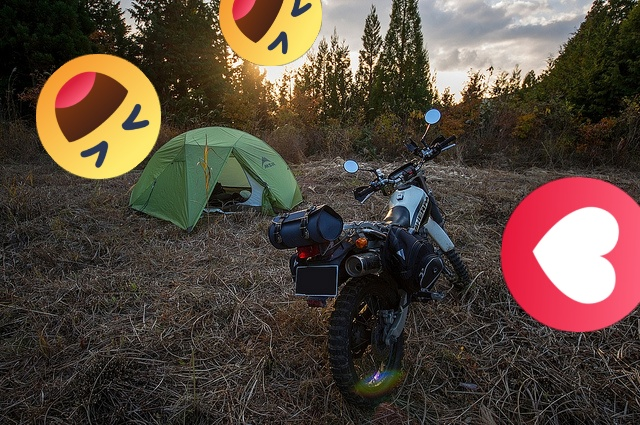haha: (36, 54, 161, 179), (219, 0, 322, 66)
love: (501, 177, 640, 332)
